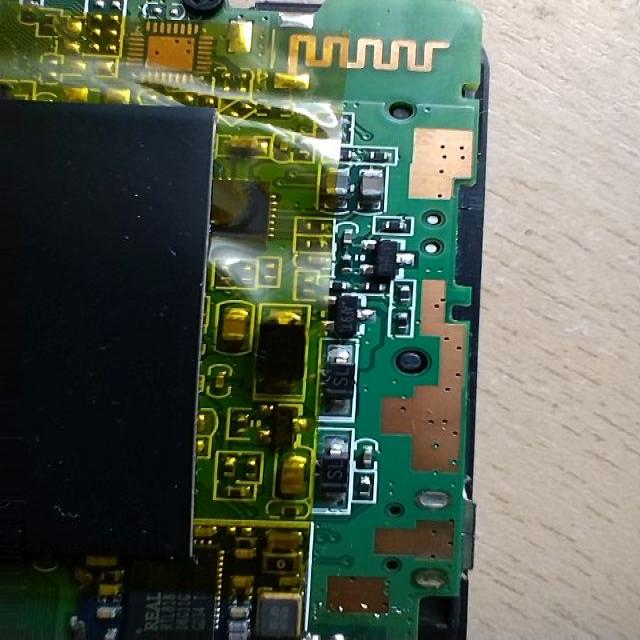resistor: (386, 303, 417, 353), (353, 467, 379, 504)
